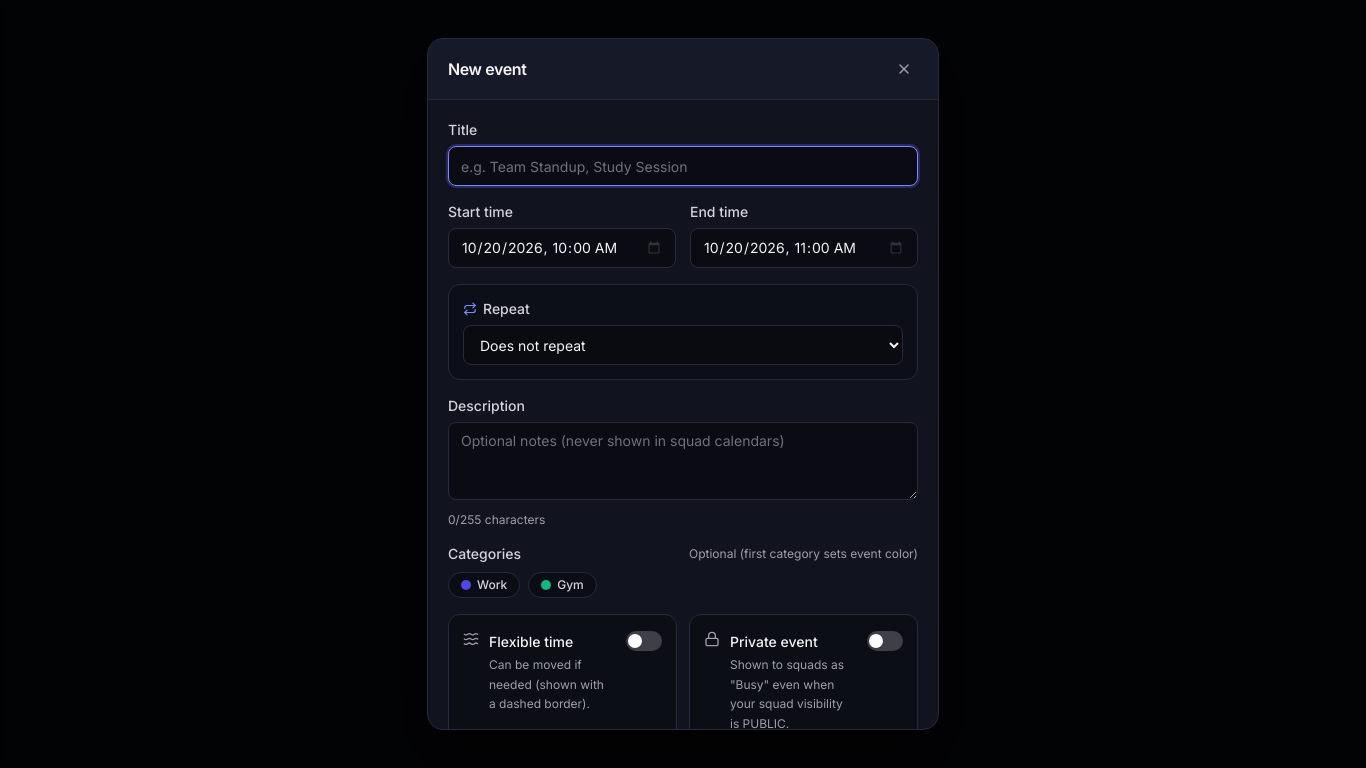
Test: EventFormModal component › validates that End time must be after Start time
The width and height of the screenshot is (1366, 768).
In the field labelled "Title": (683, 166) [448,146,918,186], type "Sprint Review"
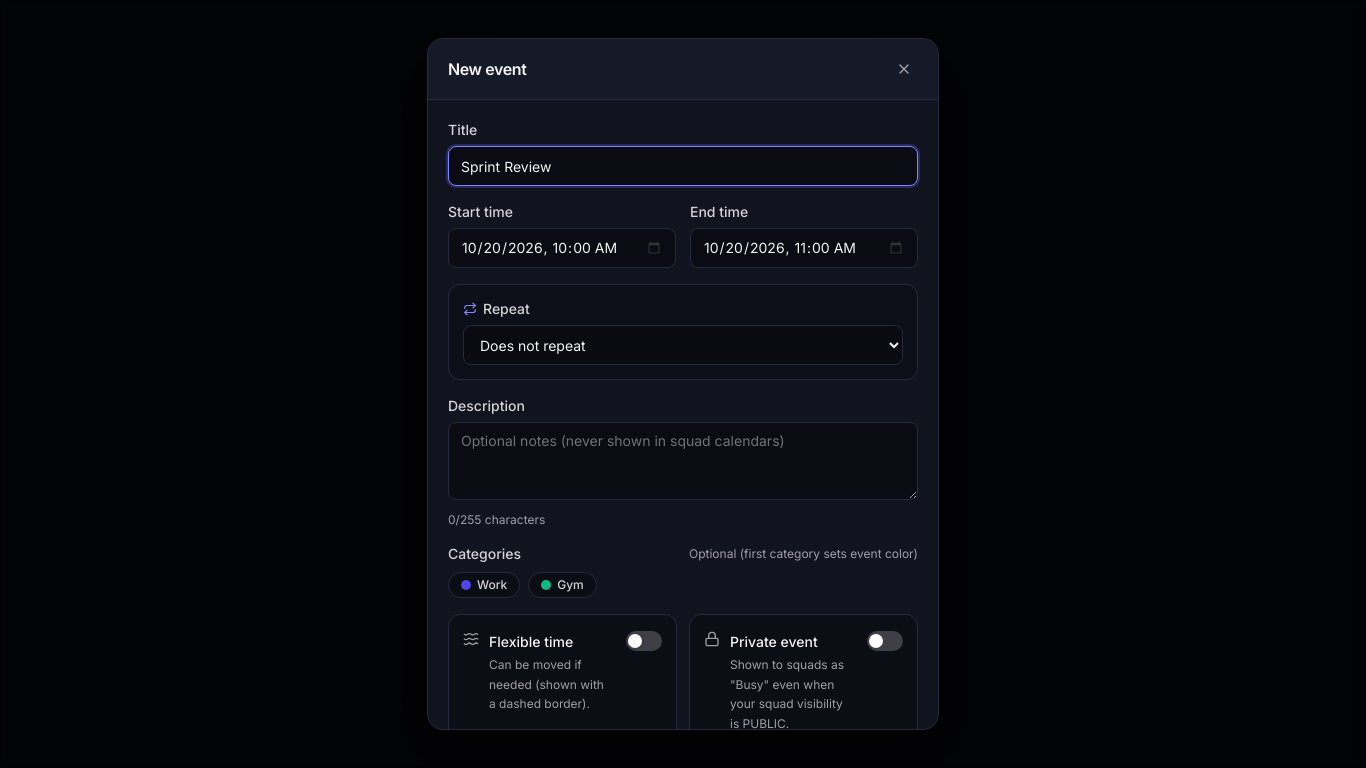
Replace the text in the field labelled "Start time" with "2026-10-20T15:00": (562, 248) [448,228,676,268]
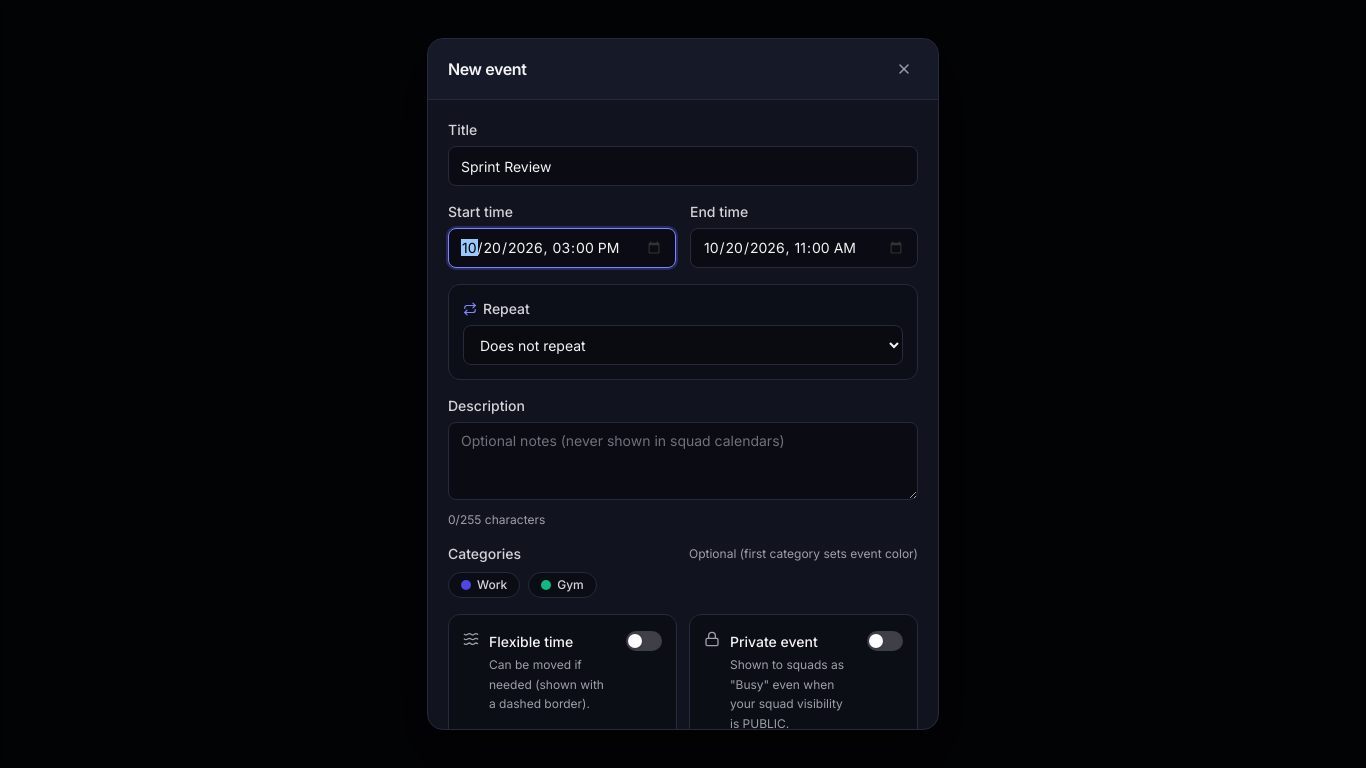
Replace the text in the field labelled "End time" with "2026-10-20T14:00": (804, 248) [690,228,918,268]
(page scrolled)
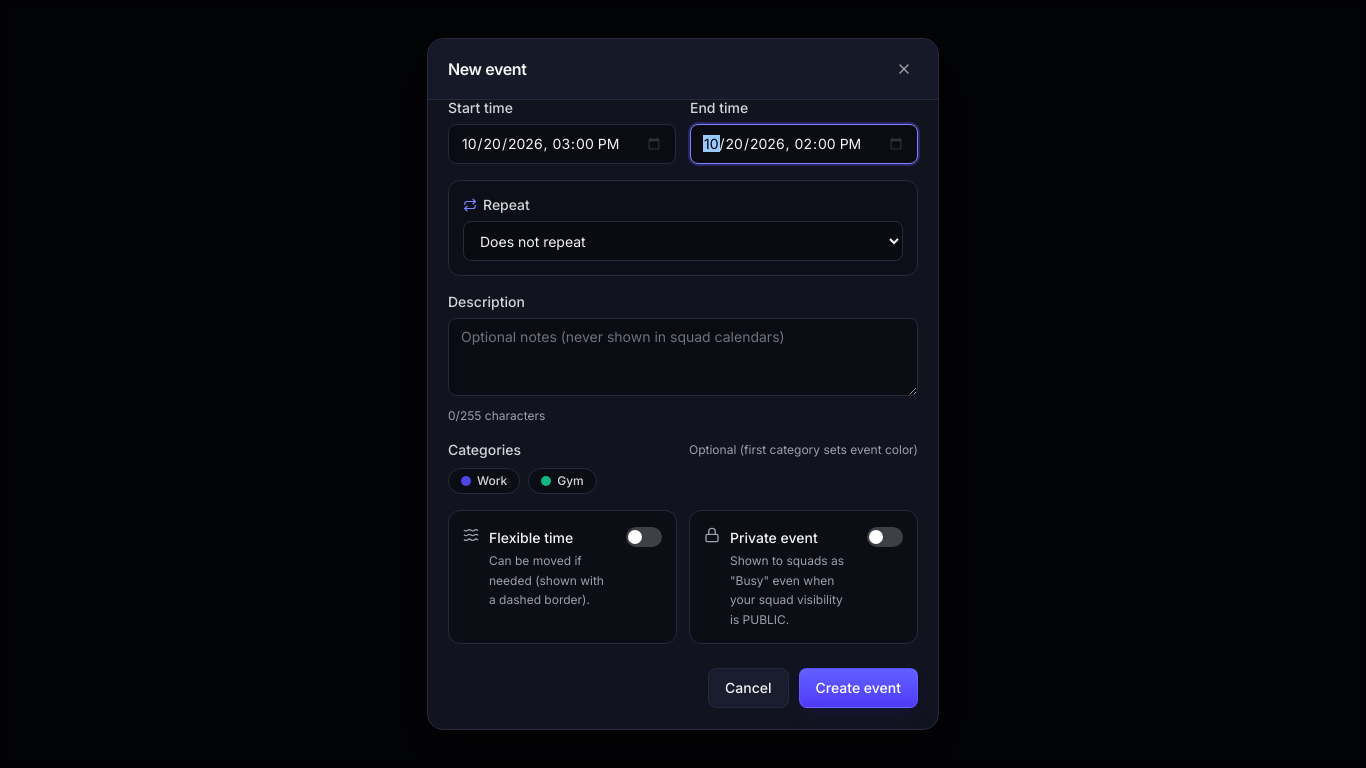
Click the button "Create event": (858, 688) [798,668,918,708]
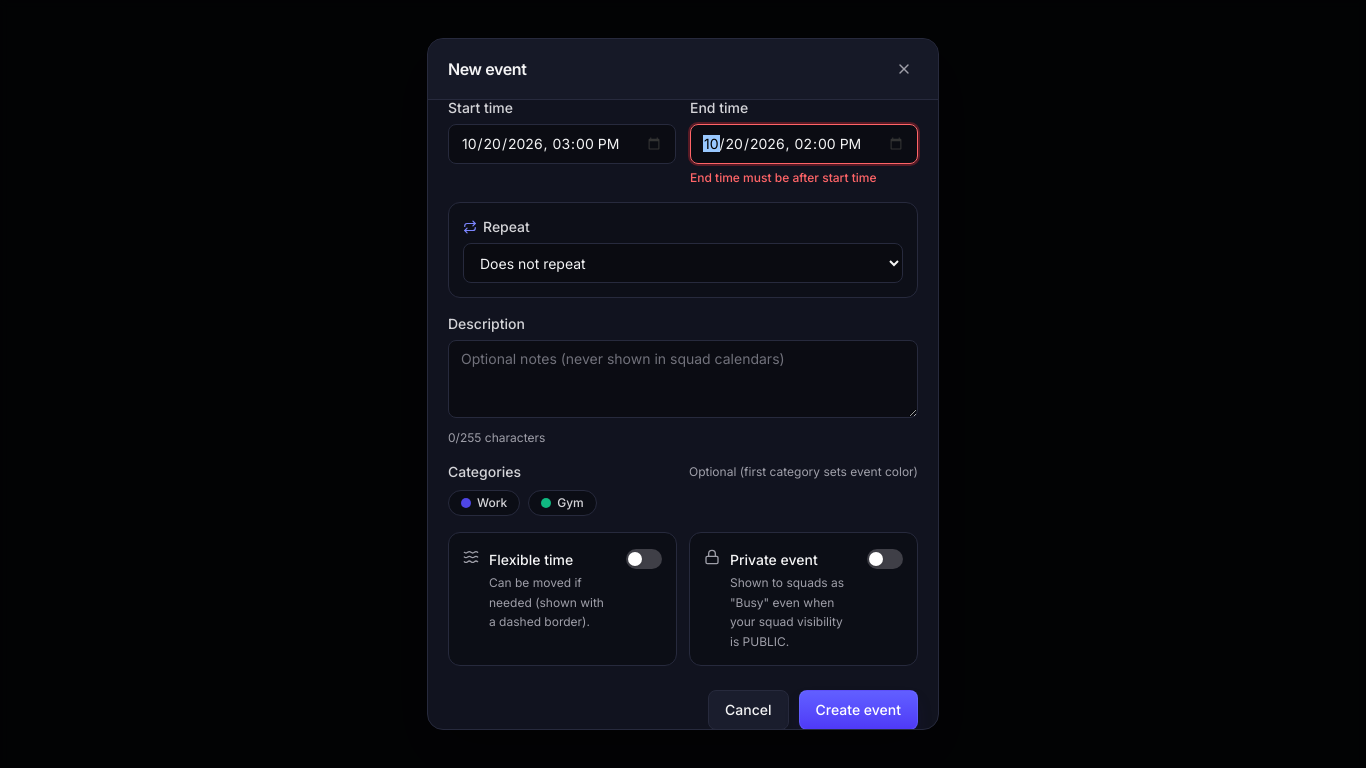
Expected: the text "End time must be after start time" is shown, [690,170,876,185]
